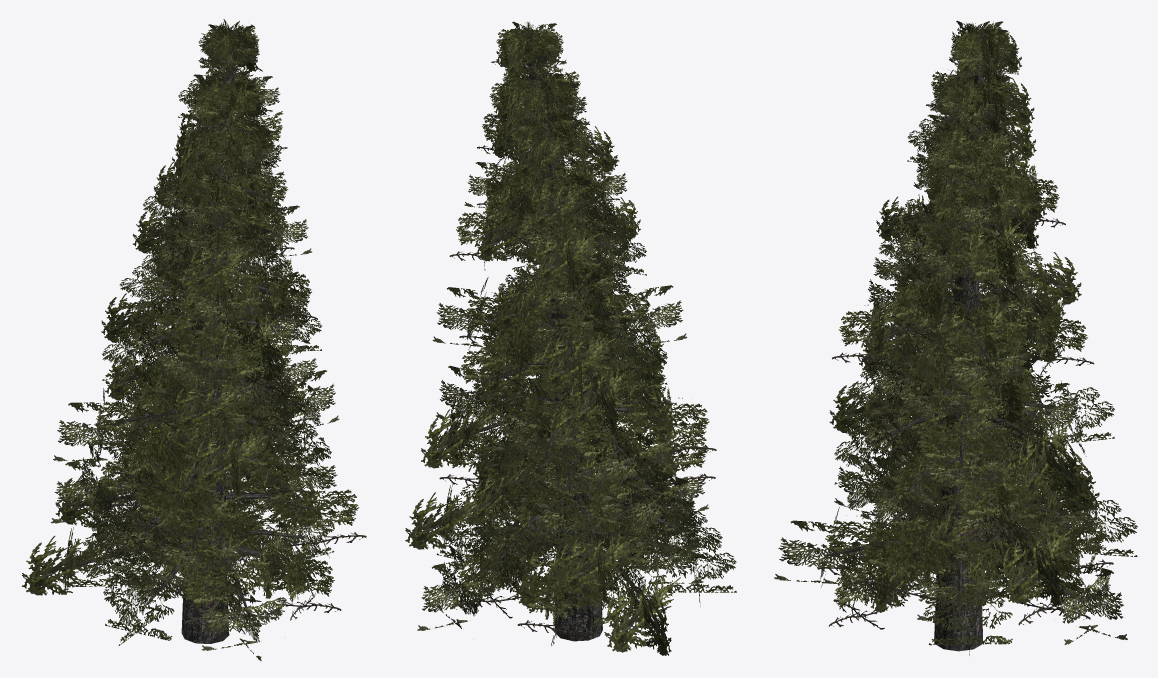
The model's file is conifer_v5_irregular_01_lod0.glb.
3 renders of one model, left to right at view 1: azimuth 30°, elevation 25°; view 2: azimuth 150°, elevation 25°; view 3: azimuth 270°, elevation 25°, orthographic. The views are drawn at different scales.
Parts seen in each view (by area): view 1: foliage_cards, wood_geometry; view 2: foliage_cards, wood_geometry; view 3: foliage_cards, wood_geometry.
Part boxes in pixels (x1,y1,x2,y2): foliage_cards: (22, 19, 366, 661); wood_geometry: (68, 30, 316, 643); foliage_cards: (405, 21, 736, 655); wood_geometry: (454, 30, 695, 641); foliage_cards: (774, 20, 1137, 655); wood_geometry: (824, 33, 1093, 651).
Bounding box in the file's own units: 4.63 × 9.25 × 4.94.
2 materials, 2 textured.
